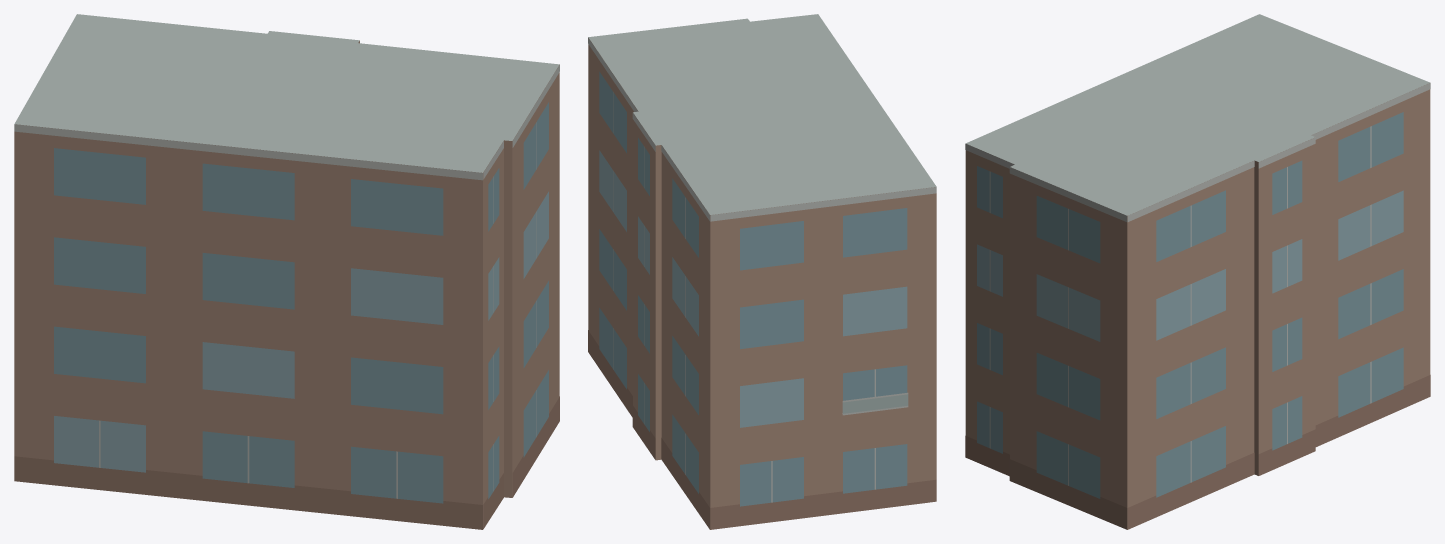
Rendered from survey-upis-32749083.glb.
The picture shows the model from 3 angles, left to right: view 1: azimuth 30°, elevation 25°; view 2: azimuth 150°, elevation 25°; view 3: azimuth 270°, elevation 25°; orthographic projection. The views are drawn at different scales.
Parts seen in each view (by area): view 1: survey-upis-32749083.tmp; view 2: survey-upis-32749083.tmp; view 3: survey-upis-32749083.tmp.
Part boxes in pixels (x1,y1,x2,y2): survey-upis-32749083.tmp: [14, 14, 559, 529]; survey-upis-32749083.tmp: [588, 14, 936, 529]; survey-upis-32749083.tmp: [965, 14, 1430, 529].
Bounding box in the file's own units: 16.14 × 11.7 × 15.71.
